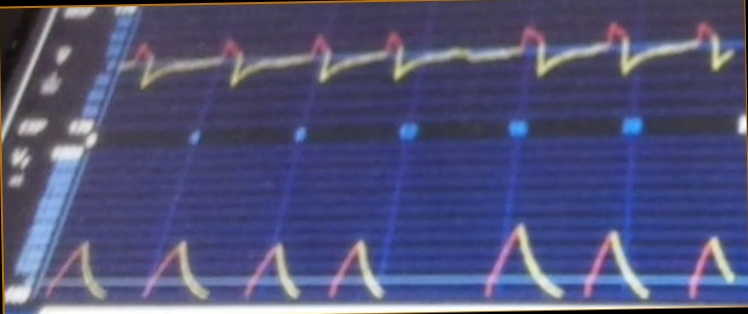Ineffective_effort Flow: (126, 18, 734, 108)
Ineffective_effort Volume: (47, 219, 734, 303)
